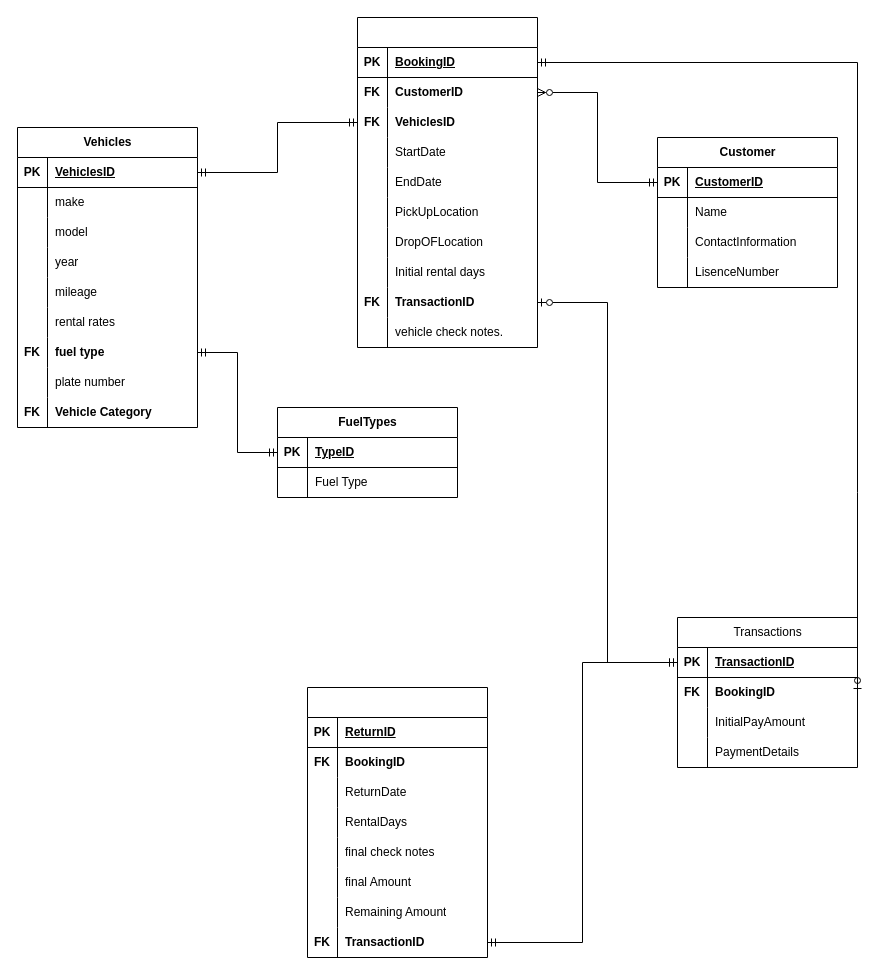
This 884x975 diagram has some shape labels left out. The box of each missing label's shape, as (x1, y1, x2, y2) in pixels:
Bookings: (356, 16, 538, 348)
CarReturn: (306, 686, 488, 958)
